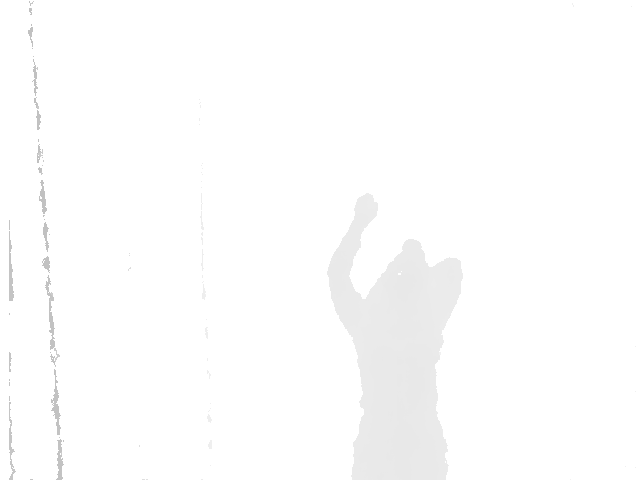hand: (354, 193, 379, 226)
head: (370, 239, 432, 307)
person: (327, 192, 465, 480)
